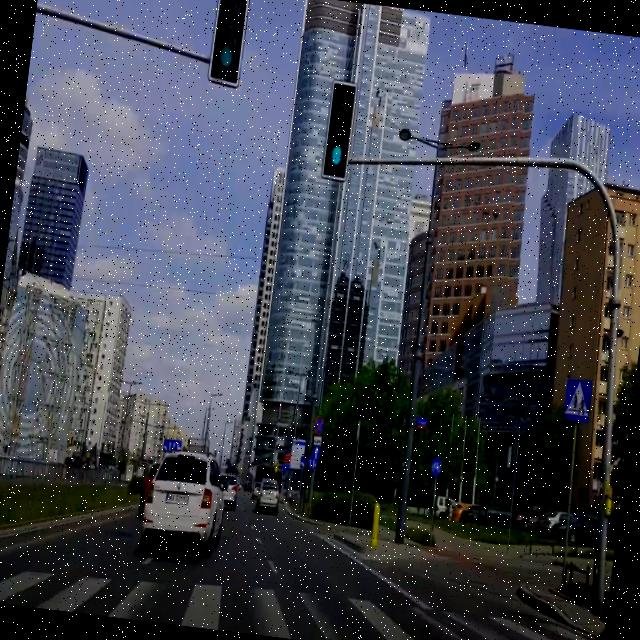Zakaz zatrzymywania sie: (312, 414, 326, 436)
